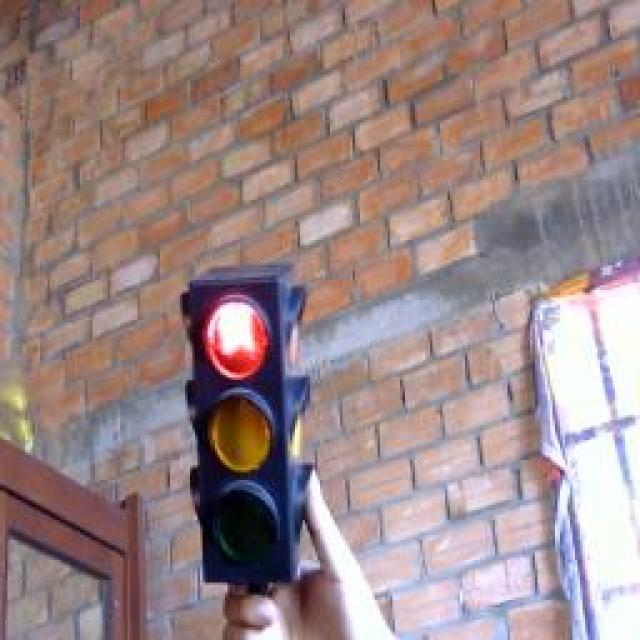-: (195, 285, 287, 390)
